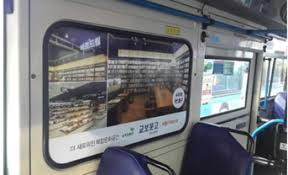in: (199, 39, 254, 152)
